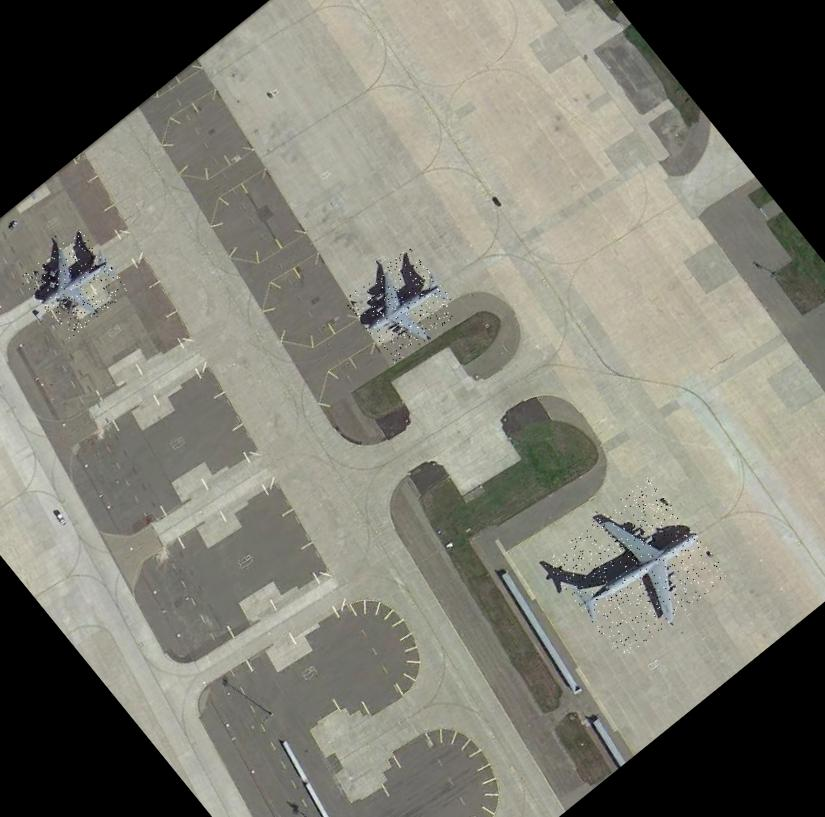A3: (343, 246, 461, 364), (17, 227, 130, 340)
A4: (542, 475, 728, 660)
